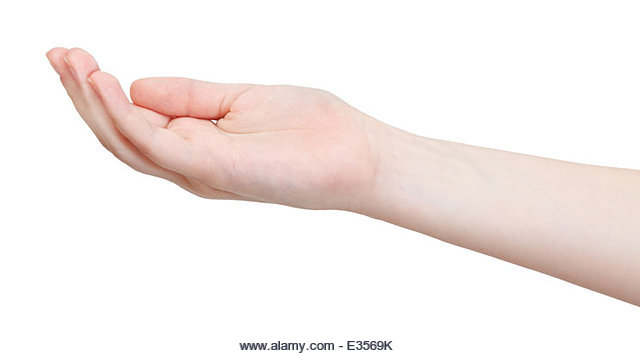non-diseased: (53, 37, 371, 223)
